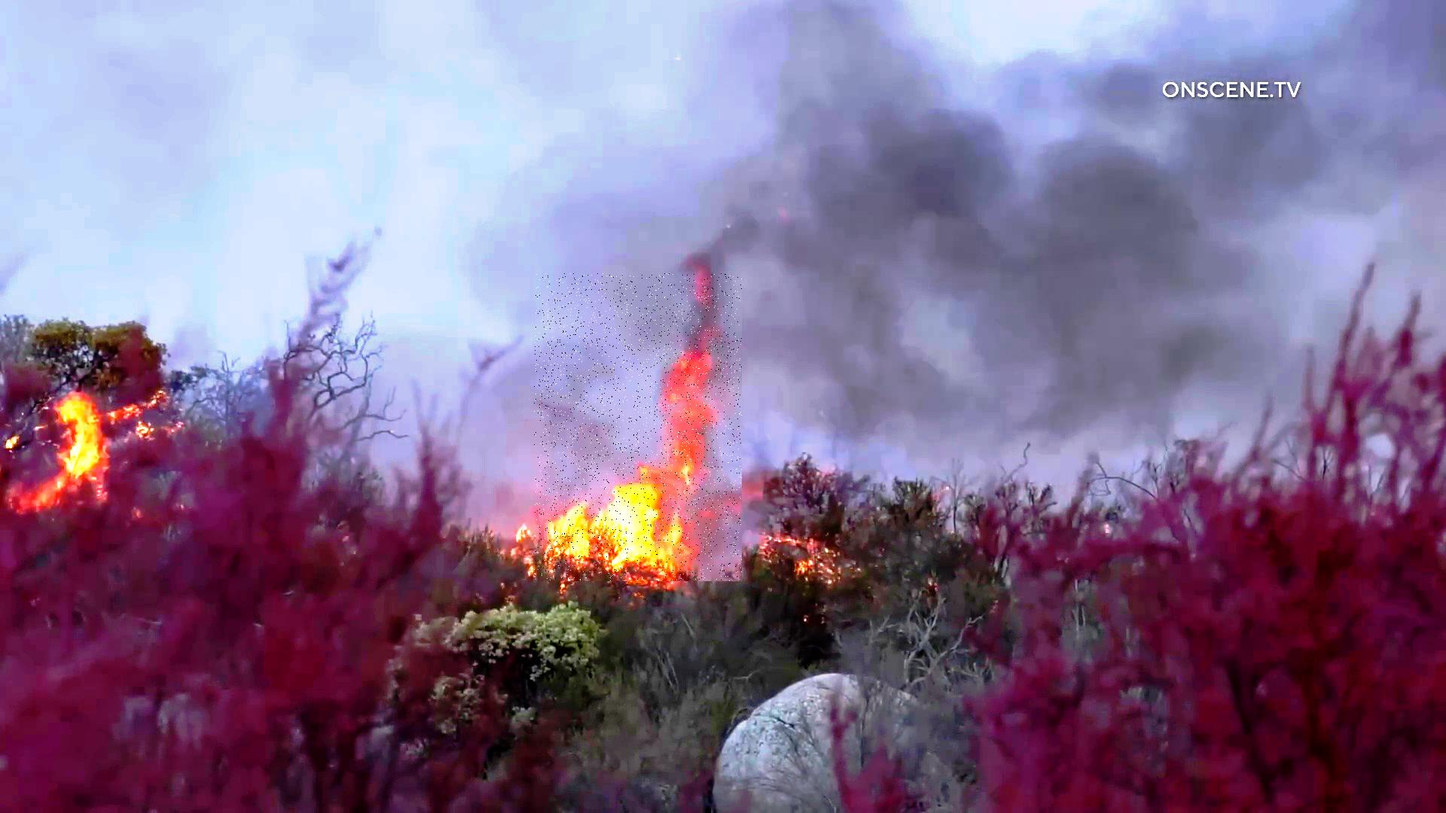fire: (534, 273, 742, 581)
